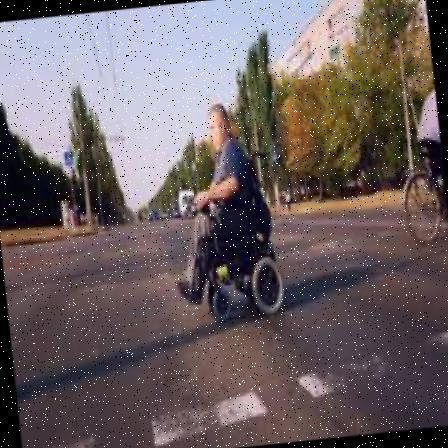wheel: (159, 98, 286, 324)
